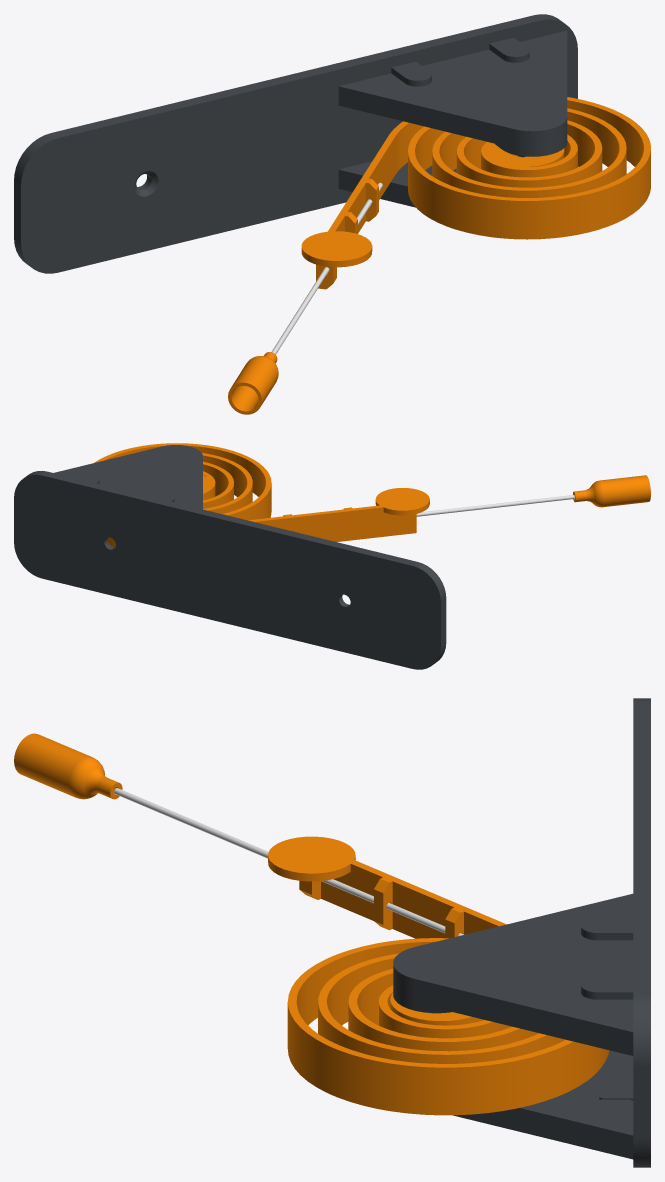
File: pounce-a-pult.glb
3 renders of one model, top to bottom at view 1: azimuth 30°, elevation 25°; view 2: azimuth 150°, elevation 25°; view 3: azimuth 270°, elevation 25°, orthographic. The views are drawn at different scales.
Visible parts, largest first — view 1: Part 1 (×6); view 2: Part 1 (×5); view 3: Part 1 (×6).
Part boxes in pixels (x1,y1,x2,y2): Part 1 (×6): [14, 14, 650, 414]; Part 1 (×5): [14, 443, 650, 669]; Part 1 (×6): [14, 698, 650, 1167].
Bounding box in the file's own units: 0.1918 × 0.042 × 0.1452.
